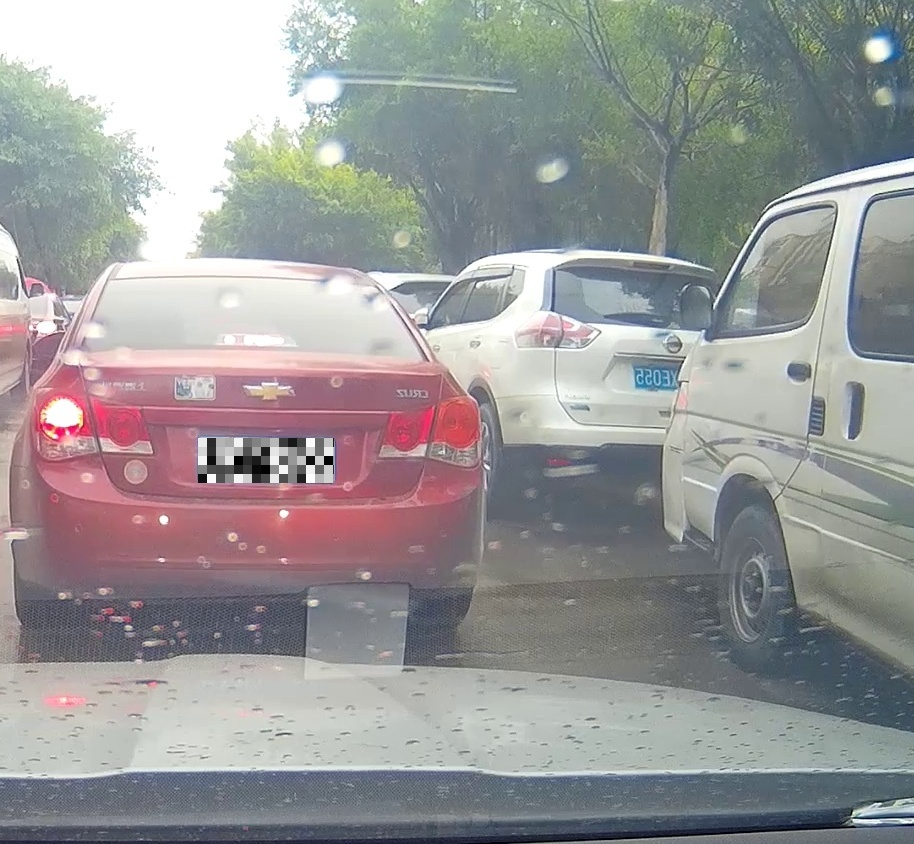L_light: (31, 387, 153, 463)
R_light: (379, 396, 482, 467)
T_light: (219, 335, 293, 346)
day-left: (9, 262, 484, 634)
plate_1: (198, 438, 334, 483)
